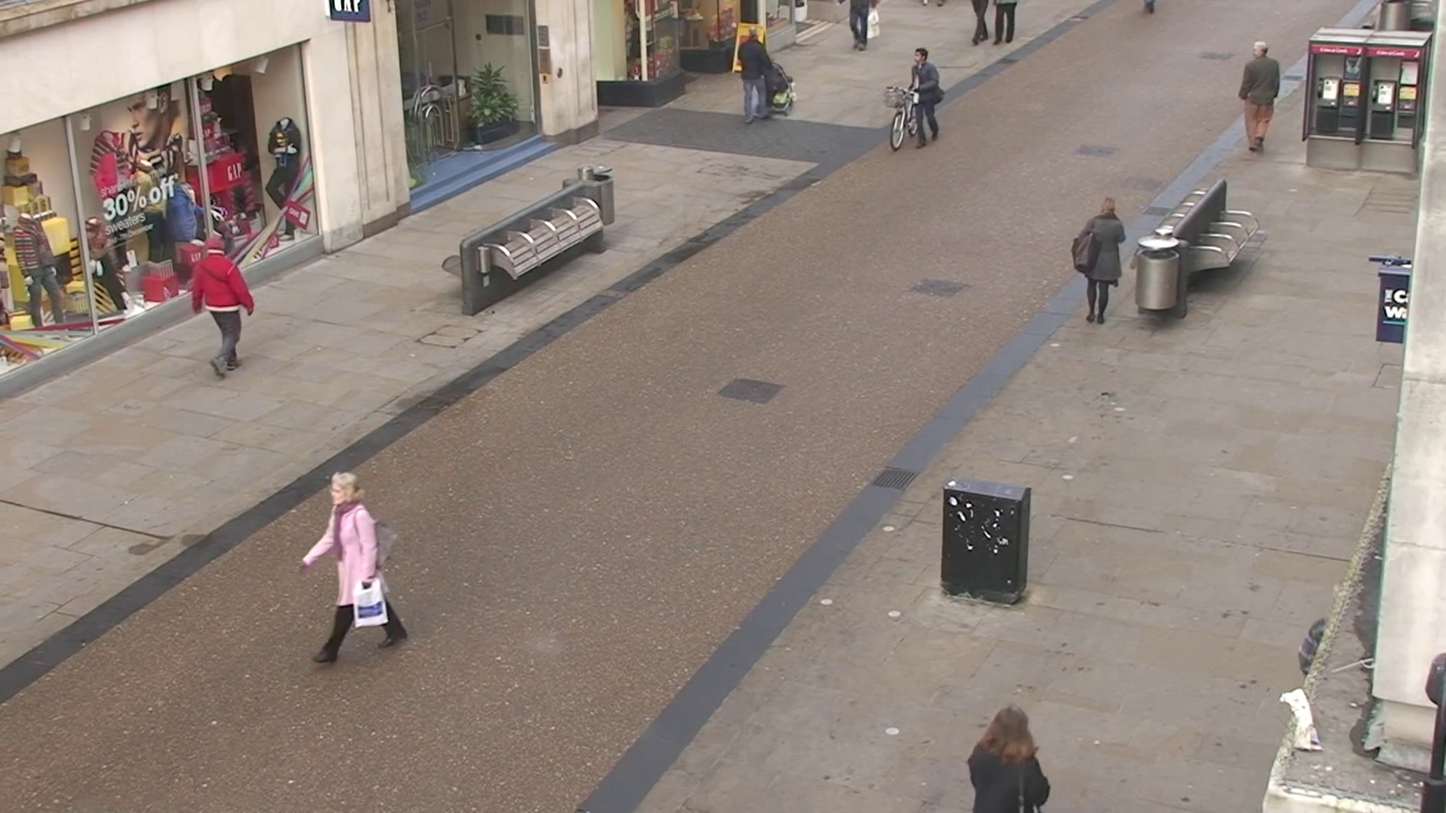person: (300, 473, 408, 662), (190, 239, 258, 378), (967, 705, 1051, 813), (1072, 197, 1125, 325), (264, 117, 307, 239), (1237, 40, 1282, 155), (736, 26, 776, 123), (907, 45, 945, 135), (847, 0, 872, 50)
